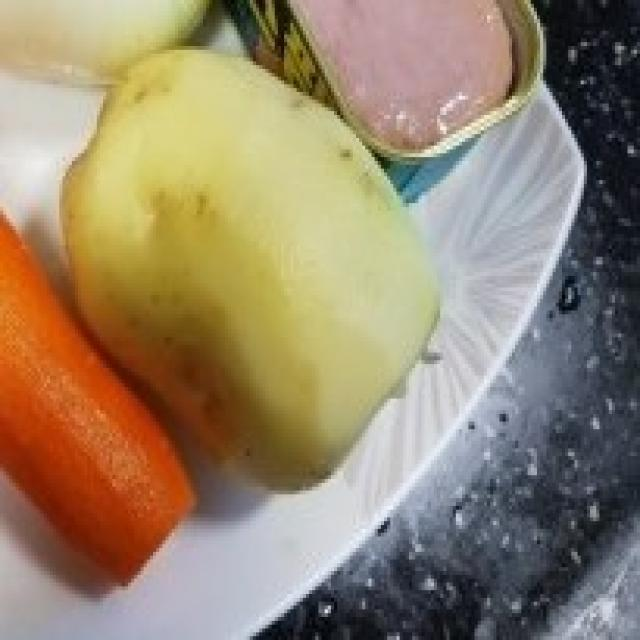potato: (61, 37, 445, 494)
